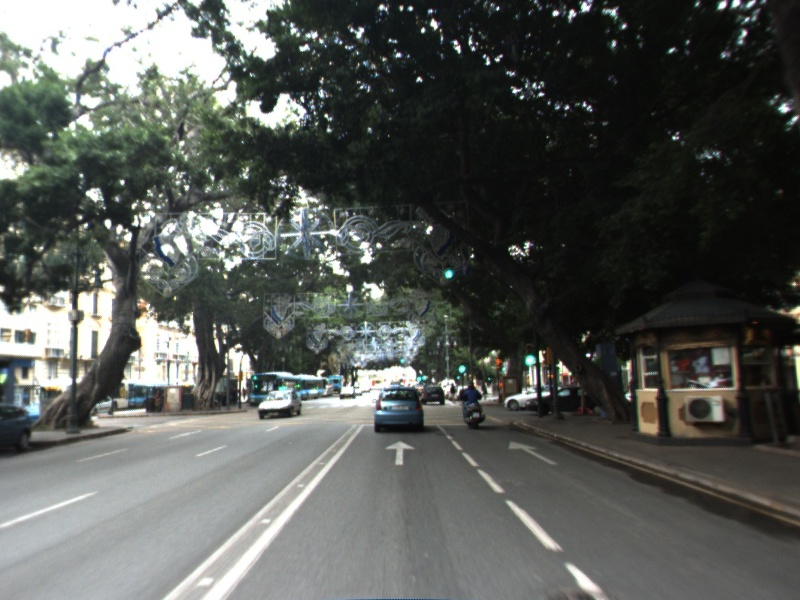STRAIGHT: (506, 439, 561, 467), (383, 439, 418, 467)
